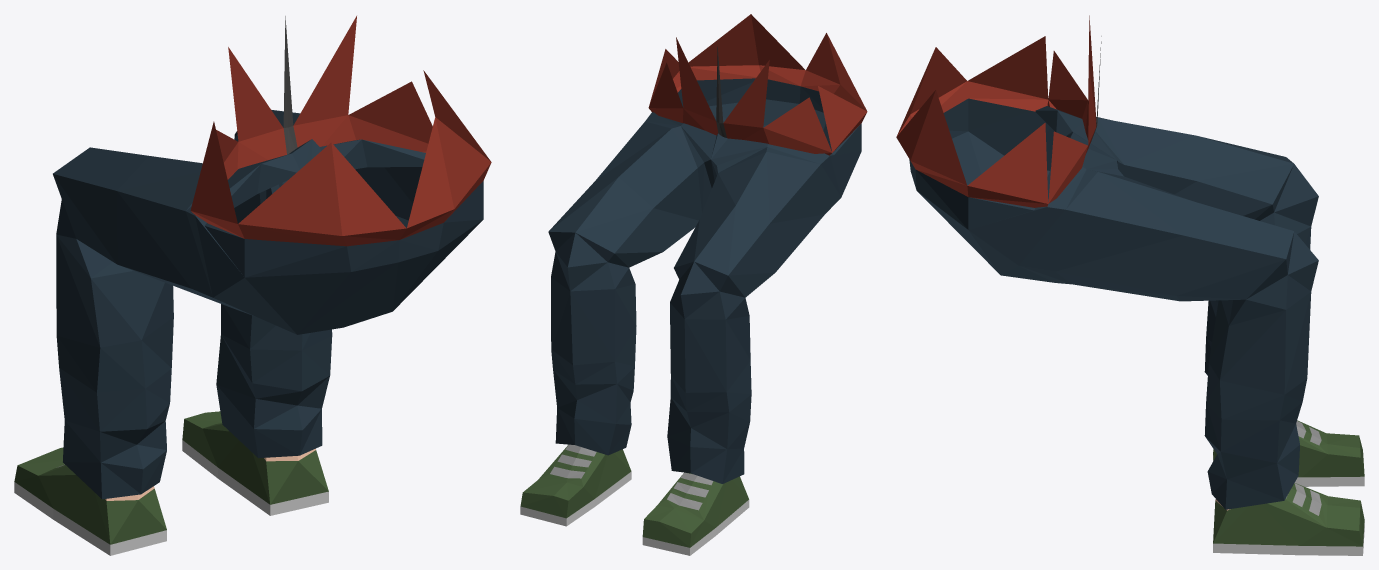
The model's file is Son_01_Legs_79.obj.
The picture shows the model from 3 angles, left to right: view 1: azimuth 30°, elevation 25°; view 2: azimuth 150°, elevation 25°; view 3: azimuth 270°, elevation 25°; orthographic projection. The views are drawn at different scales.
Visible parts, largest first — view 1: Son_01_Legs_79; view 2: Son_01_Legs_79; view 3: Son_01_Legs_79.
Part boxes in pixels (left/top/right/bottom): Son_01_Legs_79: left=14, top=16, right=491, bottom=555; Son_01_Legs_79: left=520, top=14, right=867, bottom=555; Son_01_Legs_79: left=896, top=15, right=1364, bottom=555.
Size of the model in its own units: 0.365 by 0.7748 by 0.6897.
Materials: 1 (1 with a texture image).
